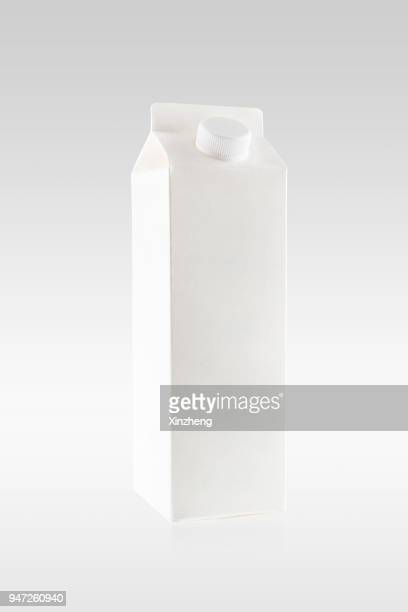carton: (121, 73, 302, 542)
